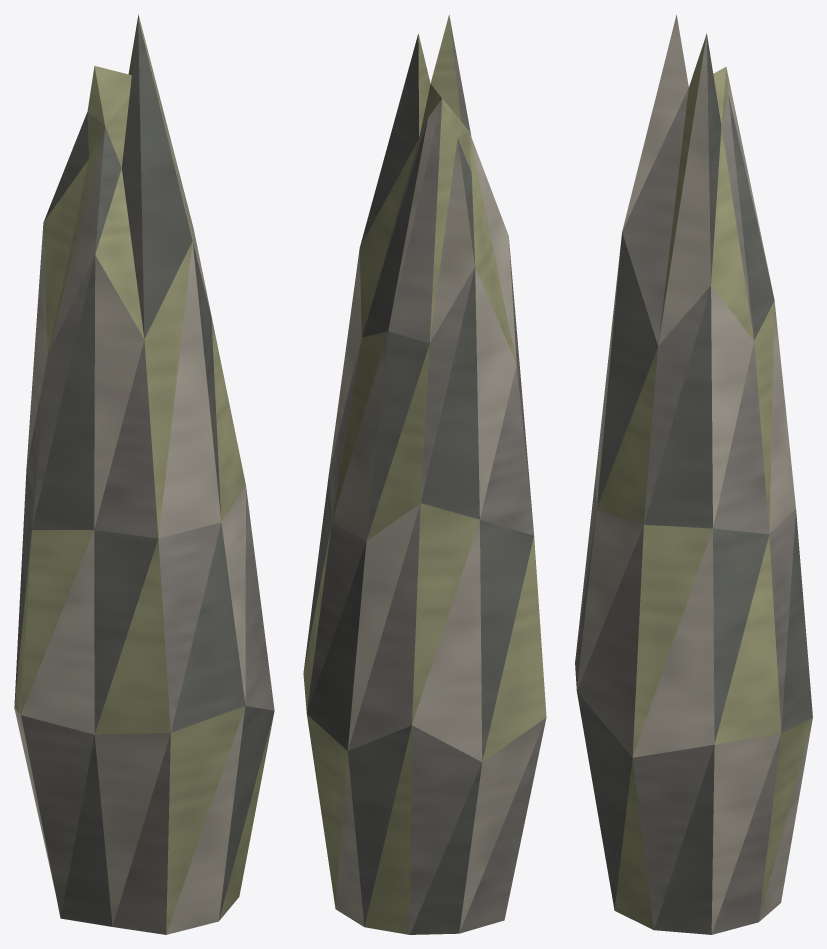
Rendered from rock_spire_03.fbx.
3 views of the same model, side by side, from view 1: azimuth 30°, elevation 25°; view 2: azimuth 150°, elevation 25°; view 3: azimuth 270°, elevation 25° (orthographic). The views are drawn at different scales.
Parts seen in each view (by area): view 1: rock_spire_03; view 2: rock_spire_03; view 3: rock_spire_03.
Boxes of the visible parts, x1,y1,x2,y2 form: rock_spire_03: [14, 14, 274, 934]; rock_spire_03: [303, 14, 546, 934]; rock_spire_03: [575, 15, 812, 934].
Bounding box in the file's own units: 224 × 810 × 200.
1 material, 1 textured.
